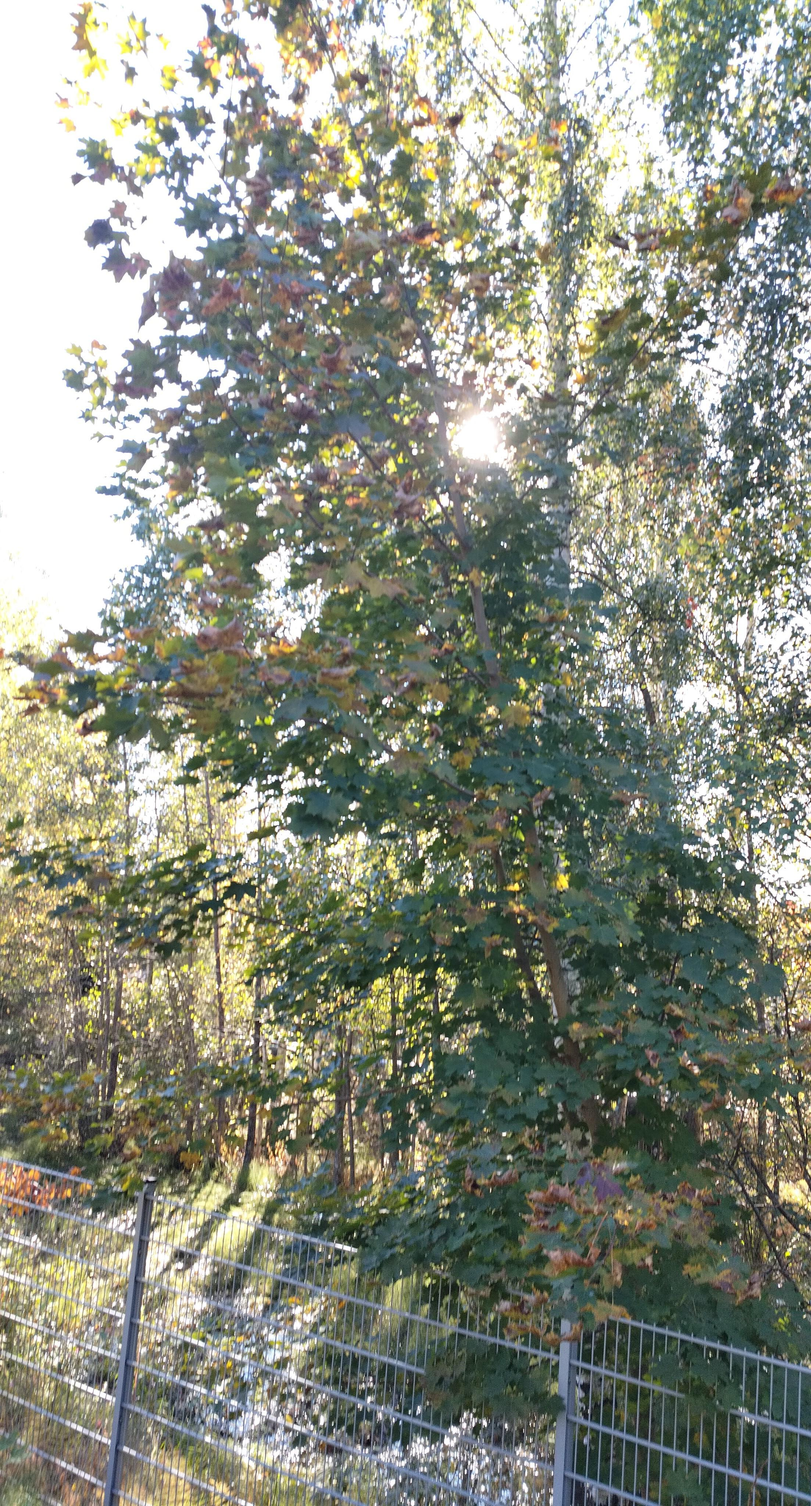Maple: (25, 1, 720, 1221)
